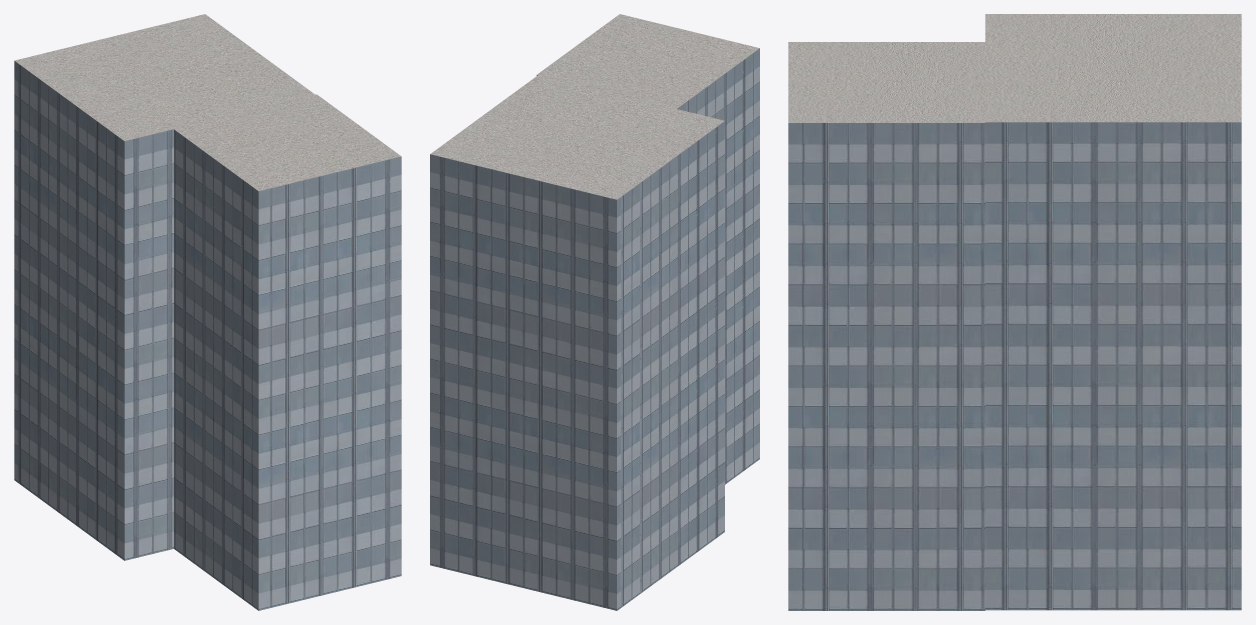
File: building_001.001.glb
3 renders of one model, left to right at view 1: azimuth 30°, elevation 25°; view 2: azimuth 150°, elevation 25°; view 3: azimuth 270°, elevation 25°, orthographic. The views are drawn at different scales.
Visible parts, largest first — view 1: building_001.002; view 2: building_001.002; view 3: building_001.002.
Boxes of the visible parts, box(x1,y1,x2,y2) form: building_001.002: box(14, 14, 401, 610); building_001.002: box(430, 14, 759, 610); building_001.002: box(788, 14, 1241, 610).
Bounding box in the file's own units: 10.07 × 21 × 17.7.
Materials: 2 (2 with a texture image).
